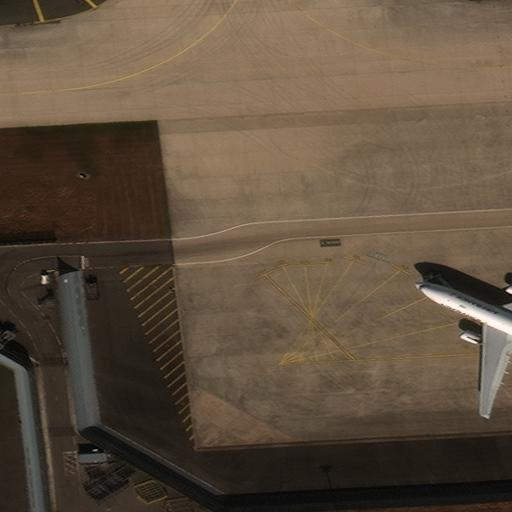Large Civil Transport: (416, 277, 511, 414)
